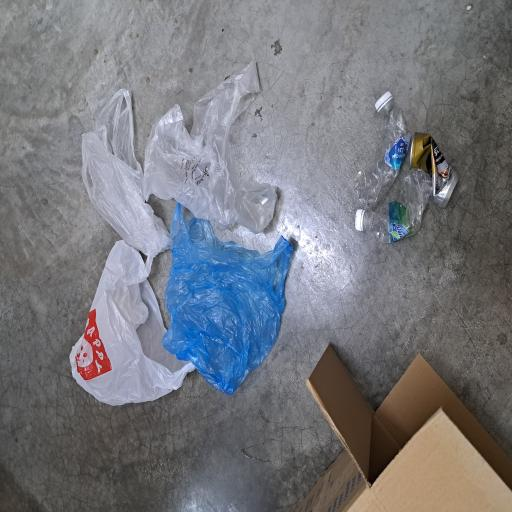cardboard: (0, 387, 128, 512)
plastic bag: (88, 215, 232, 392), (207, 192, 339, 369), (78, 94, 205, 258), (191, 108, 319, 228)
plastic bottle: (227, 471, 310, 512), (201, 485, 256, 512)
plastic bottle cap: (211, 473, 227, 485), (301, 499, 315, 512)
